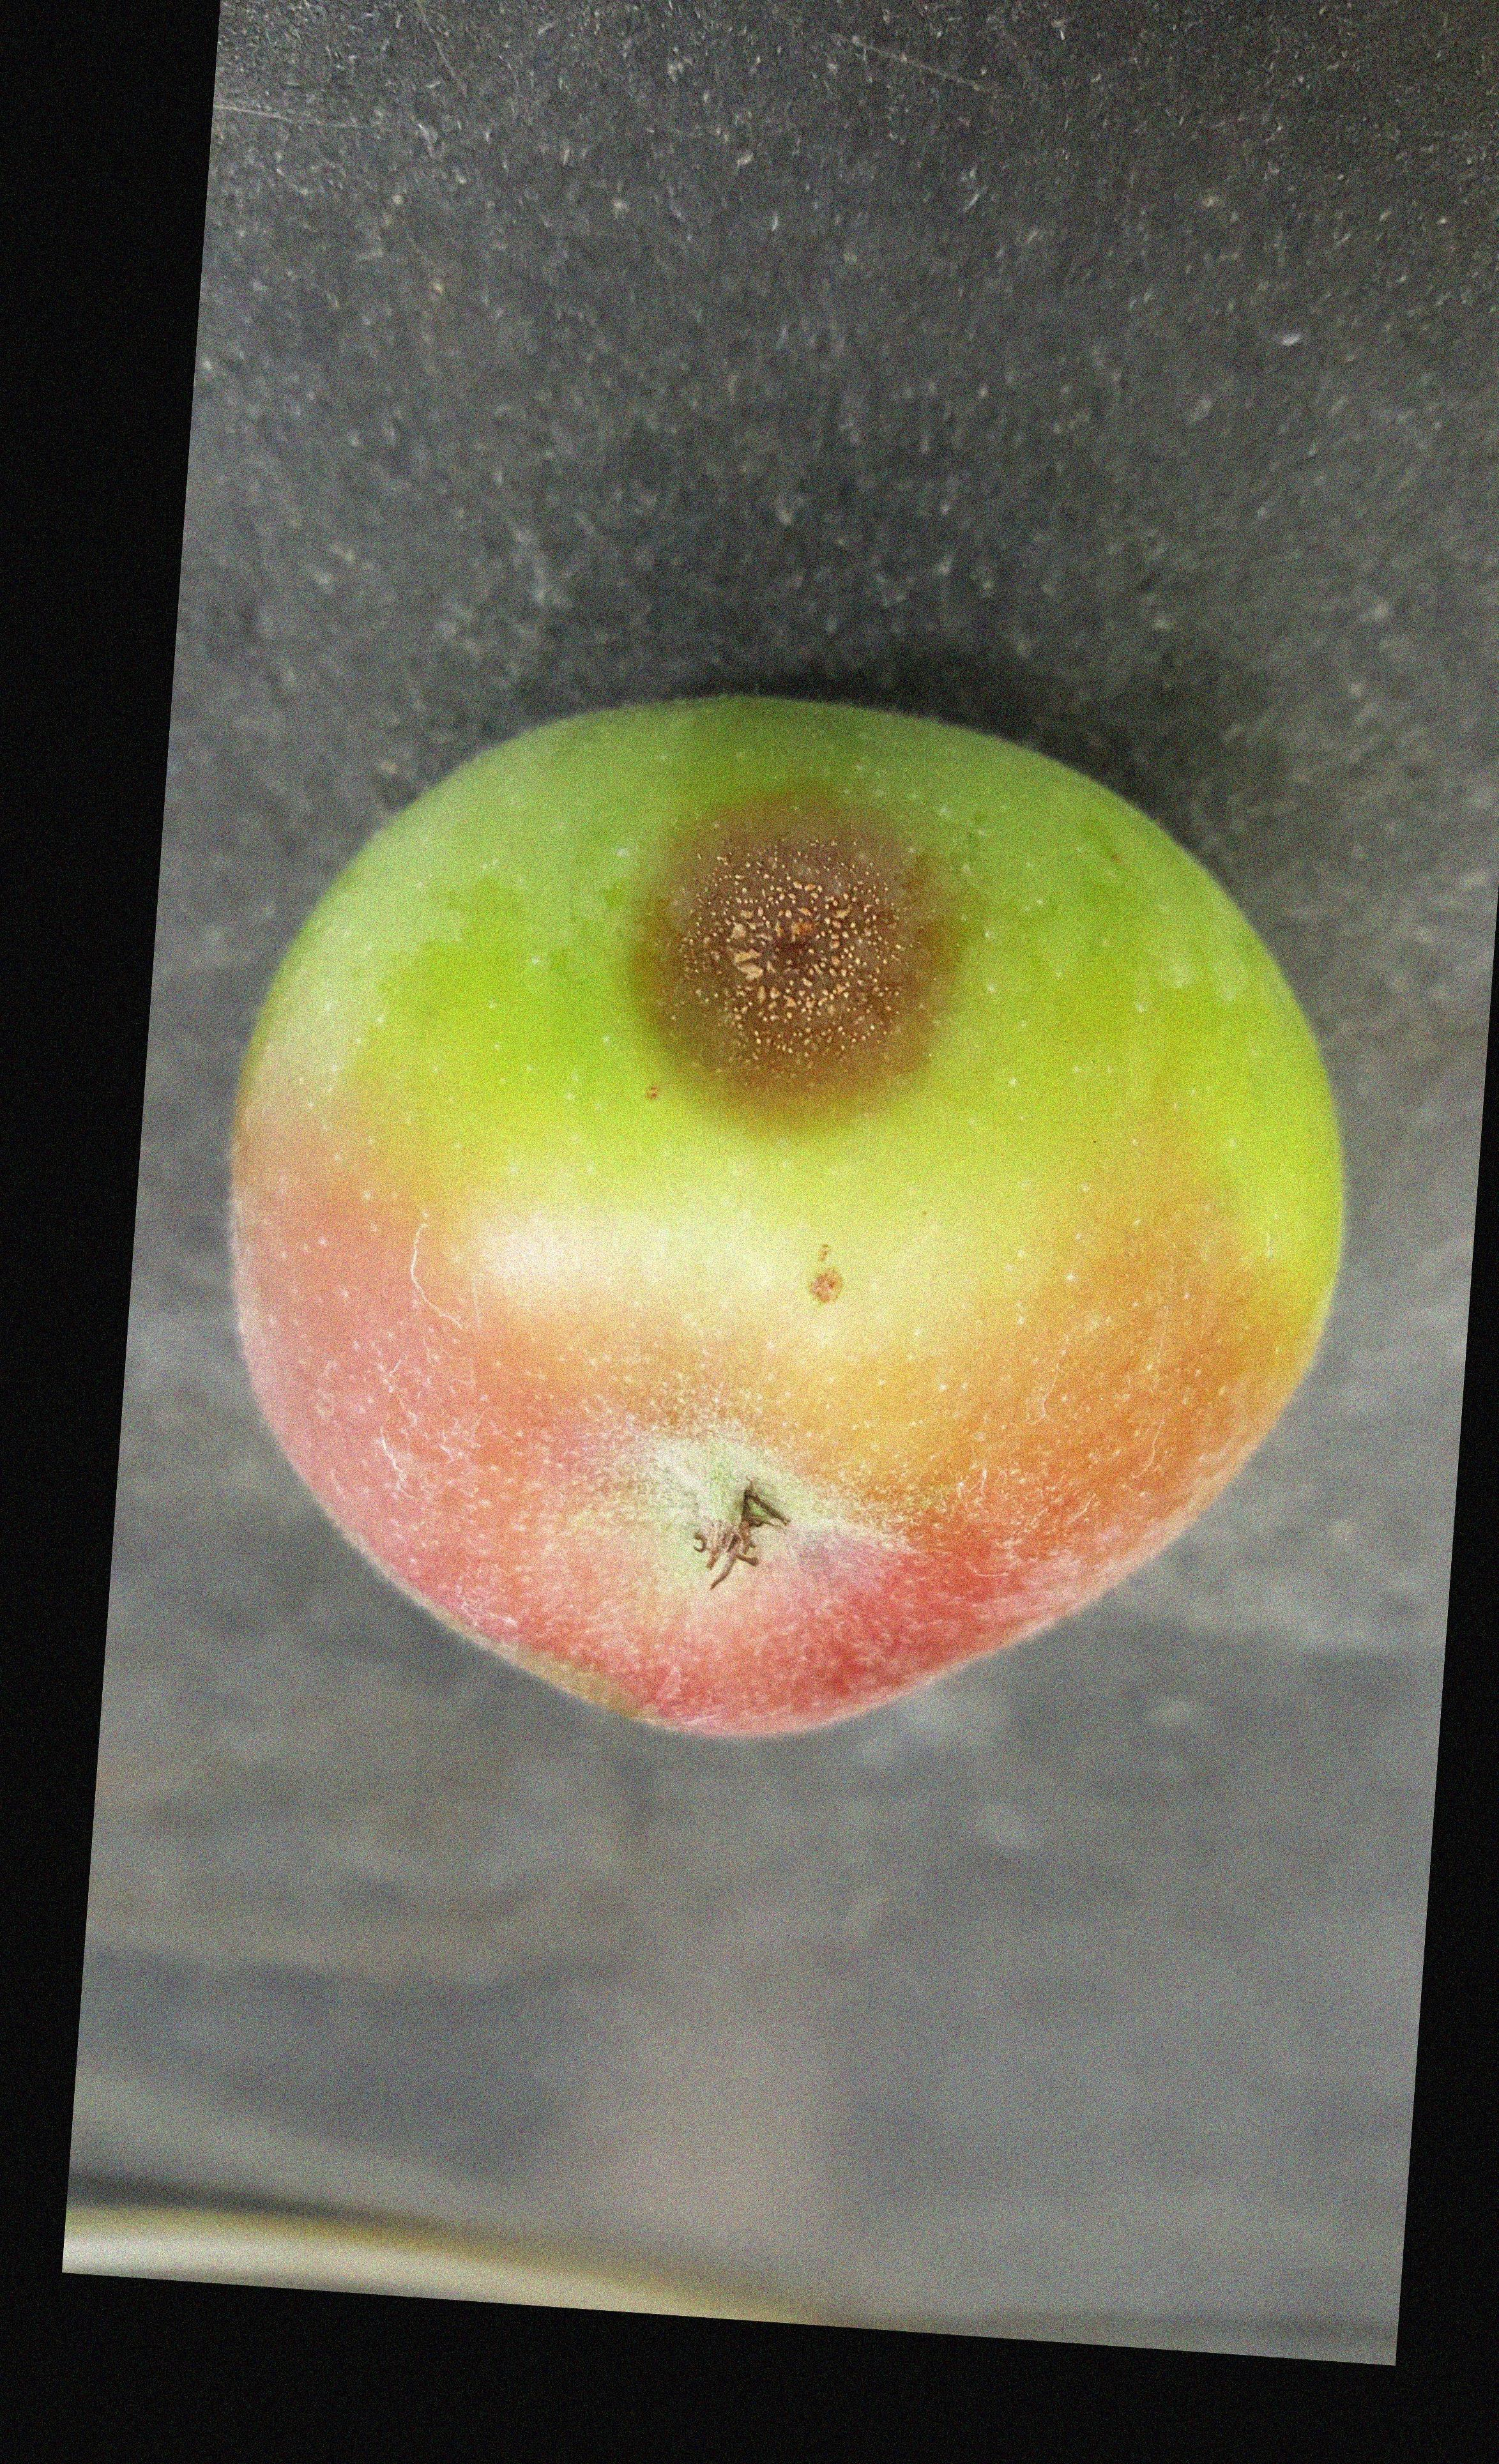rotten apple: (216, 672, 1355, 1742)
